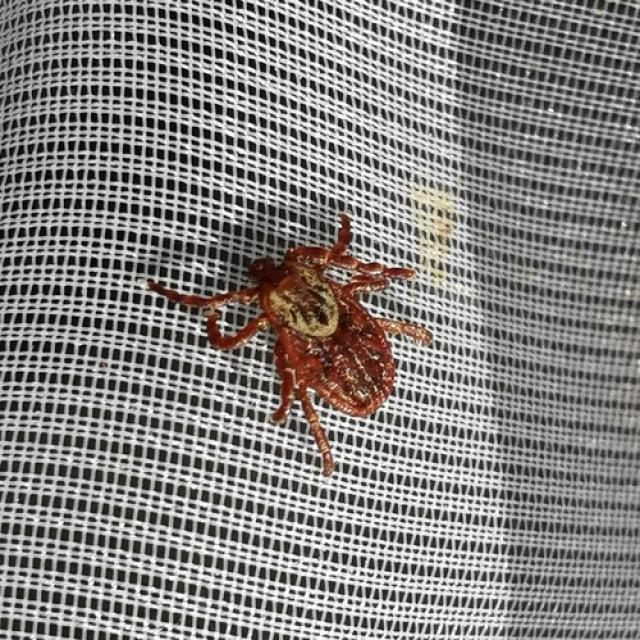Dermacentor Reticulatus-F: (143, 215, 430, 473)
